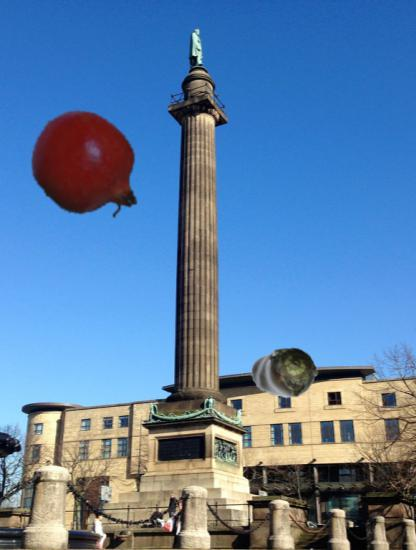Eggplant: (250, 339, 319, 408)
Pomegranate: (26, 107, 149, 230)
